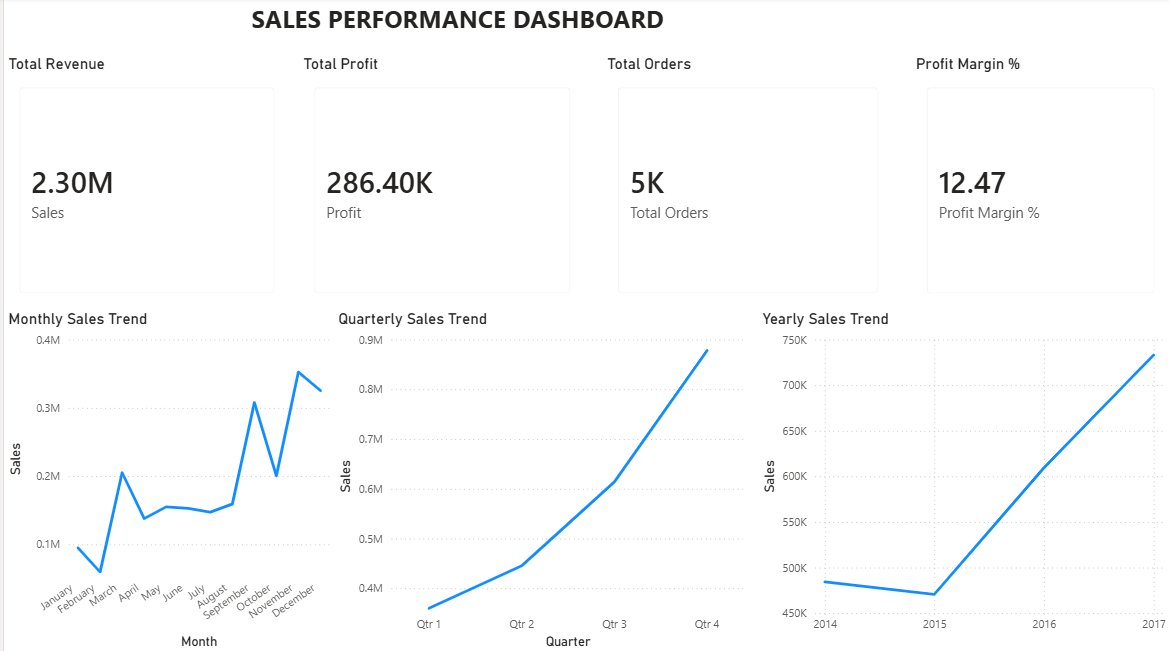

The dashboard page shown, as its layout file describes it:
{"tool":"powerbi","page":{"name":"Executive Dashboard","canvas":[1280,720],"ordinal":0},"visuals":[{"type":"cardVisual","title":"Total Revenue","fields":{"Data":["Sum(Sample - Superstore.Sales)"]},"box":[0,63.1,314.2,279.9],"z":0},{"type":"cardVisual","title":"Total Profit","fields":{"Data":["Sum(Sample - Superstore.Profit)"]},"box":[323.8,63.1,315.6,279.9],"z":1000},{"type":"cardVisual","title":"Total Orders","fields":{"Data":["Sample - Superstore.Total Orders"]},"box":[657.3,63.1,319.7,279.9],"z":2000},{"type":"cardVisual","title":"Profit Margin %","fields":{"Data":["Sample - Superstore.Profit Margin %"]},"box":[996.2,63.1,284,279.9],"z":3000},{"type":"lineChart","title":"Monthly Sales Trend","fields":{"Y":["Sum(Sample - Superstore.Sales)"],"Category":["Sample - Superstore.Order Date.Variation.Date Hierarchy.Month"]},"box":[0,343.1,362.3,377.4],"z":4000},{"type":"lineChart","title":"Quarterly Sales Trend","fields":{"Y":["Sum(Sample - Superstore.Sales)"],"Category":["Sample - Superstore.Order Date.Variation.Date Hierarchy.Quarter"]},"box":[362.3,343.1,455.6,377.4],"z":5000},{"type":"lineChart","title":"Yearly Sales Trend","fields":{"Y":["Sum(Sample - Superstore.Sales)"],"Category":["Sample - Superstore.Order Date.Variation.Date Hierarchy.Year"]},"box":[827.4,343.1,452.8,377.4],"z":6000},{"type":"textbox","box":[0,0,996.2,52.1],"z":6001}]}

Visuals, with their boxes in screenshot pixels (x1, y1, x2, y2), scaled from the page's 1280x720 canvas onto the 1169x651 screenshot:
"Total Revenue" cardVisual: BBox(0, 57, 287, 310)
"Total Profit" cardVisual: BBox(296, 57, 584, 310)
"Total Orders" cardVisual: BBox(600, 57, 892, 310)
"Profit Margin %" cardVisual: BBox(910, 57, 1168, 310)
"Monthly Sales Trend" lineChart: BBox(0, 310, 331, 650)
"Quarterly Sales Trend" lineChart: BBox(331, 310, 747, 650)
"Yearly Sales Trend" lineChart: BBox(756, 310, 1168, 650)
textbox: BBox(0, 0, 910, 47)
